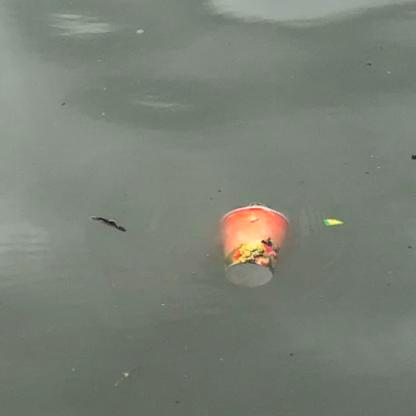Plastic: (216, 203, 288, 288)
